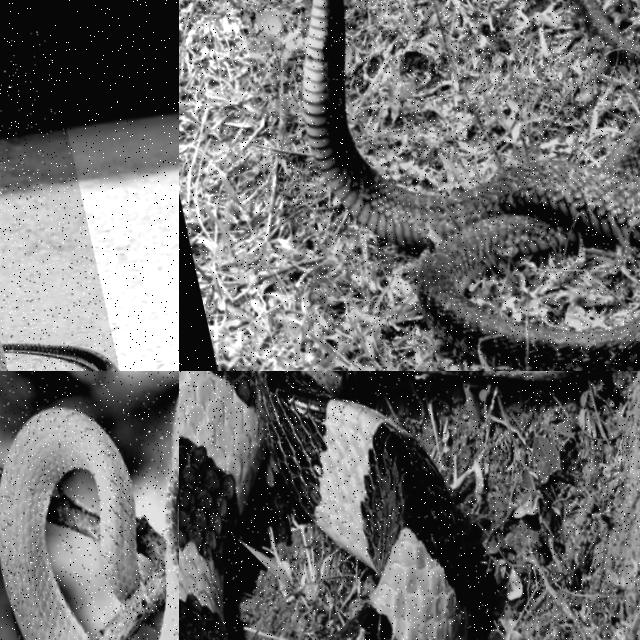Bungarus fasciatus: (179, 371, 470, 639)
Naja kaouthia: (302, 0, 639, 370), (0, 343, 117, 370)
Trimeresurus macrops: (0, 409, 142, 639)
snake: (302, 0, 639, 370), (179, 371, 470, 639), (0, 409, 142, 639), (0, 343, 117, 370)
